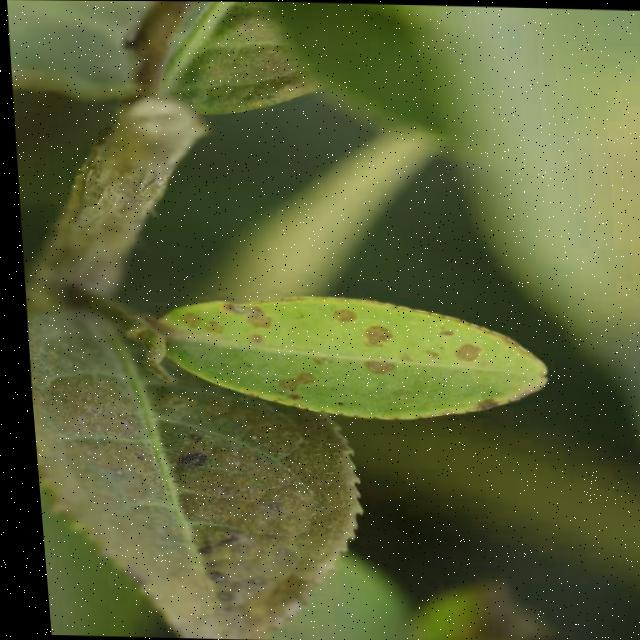Tea red scab: (189, 309, 513, 401)
